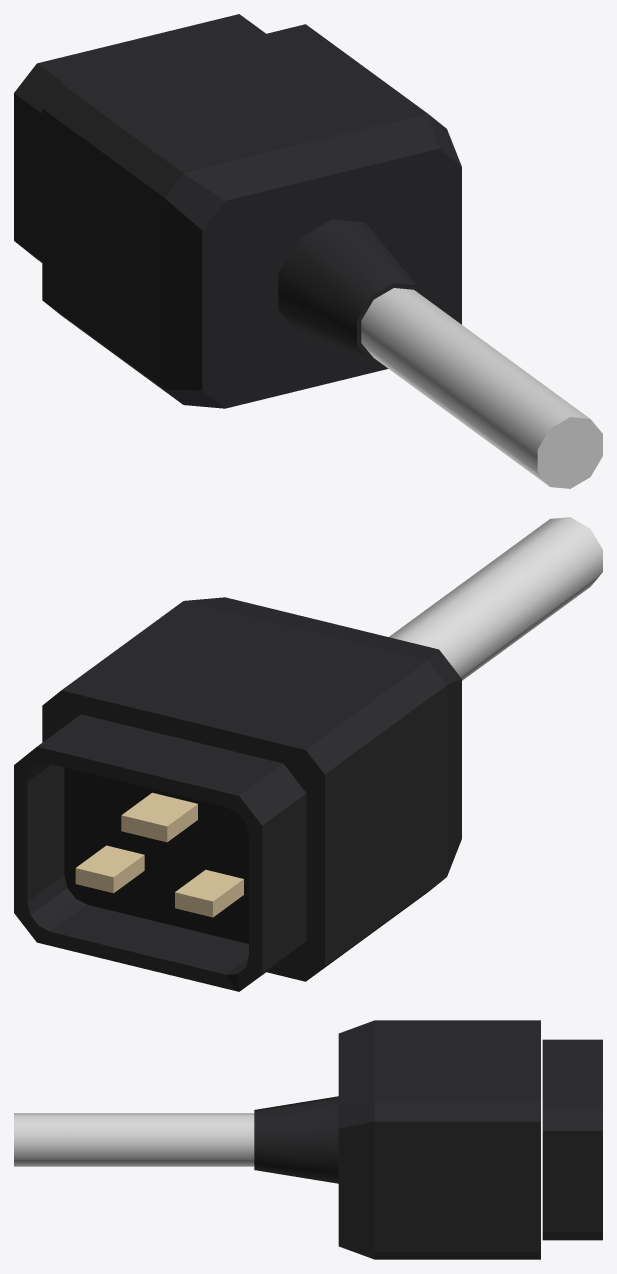
Rendered from IEC-C20.glb.
3 views of the same model, one above another, from view 1: azimuth 30°, elevation 25°; view 2: azimuth 150°, elevation 25°; view 3: azimuth 270°, elevation 25° (orthographic). The views are drawn at different scales.
Parts seen in each view (by area): view 1: IEC-C20_Head; view 2: IEC-C20_Head; view 3: IEC-C20_Head.
Part boxes in pixels (x1,y1,x2,y2): IEC-C20_Head: (14, 14, 602, 488); IEC-C20_Head: (14, 517, 602, 991); IEC-C20_Head: (14, 1020, 602, 1259).
Bounding box in the file's own units: 0.037 × 0.029 × 0.098.
